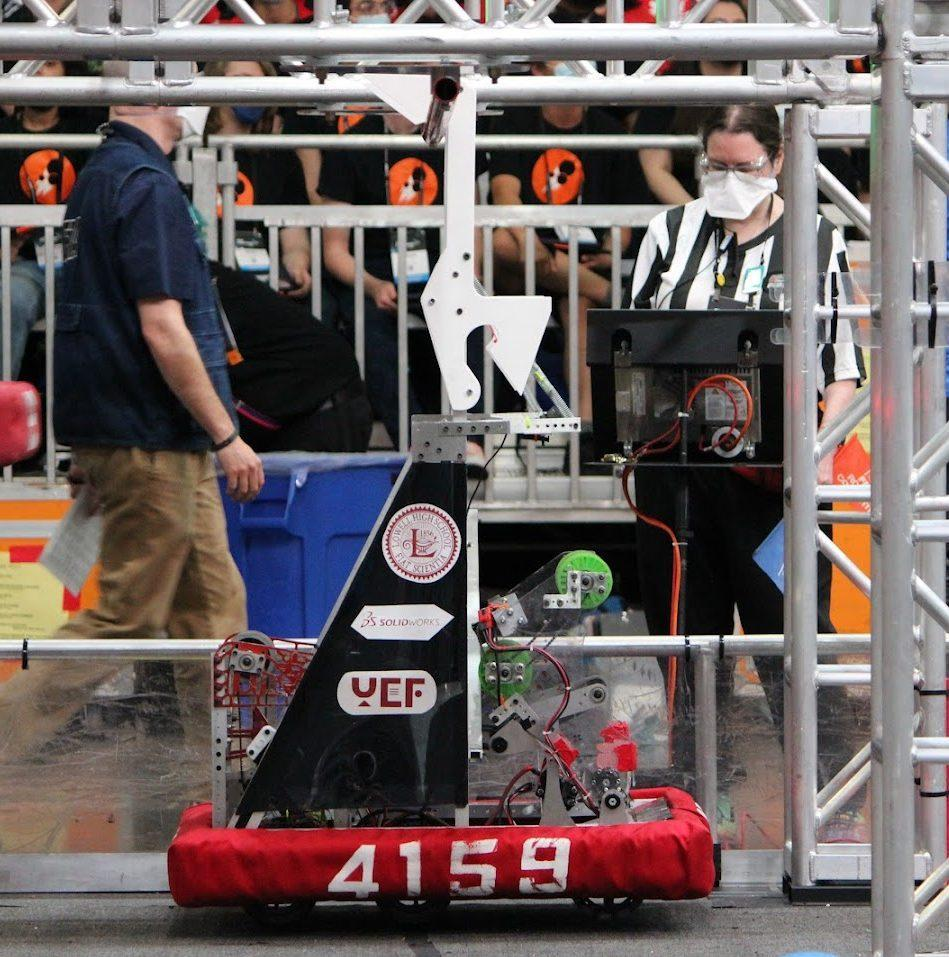robot: (160, 63, 733, 936)
